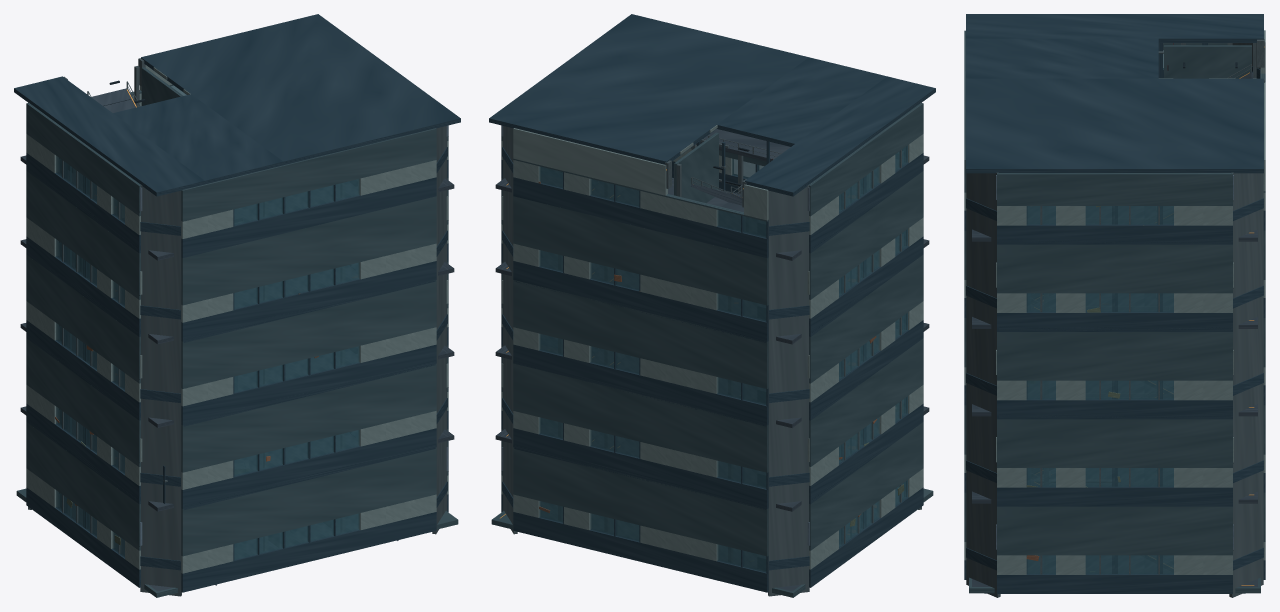
The model's file is Estacion_Abandonada.fbx.
The picture shows the model from 3 angles, left to right: view 1: azimuth 30°, elevation 25°; view 2: azimuth 150°, elevation 25°; view 3: azimuth 270°, elevation 25°; orthographic projection. The views are drawn at different scales.
Parts seen in each view (by area): view 1: Casco exterior.001, Cubierta superior.001, 05 · Observación.001, 02 · Almacén.001, 04 · Laboratorio.001, 03 · Comunicaciones.001, Conexión de entrada.001, 01 · Máquinas.001; view 2: Casco exterior.001, Cubierta superior.001, 05 · Observación.001, Conexión de entrada.001, 04 · Laboratorio.001, 02 · Almacén.001, 03 · Comunicaciones.001, Circulación vertical.001; view 3: Casco exterior.001, Cubierta superior.001, Conexión de entrada.001, 04 · Laboratorio.001, 03 · Comunicaciones.001, 02 · Almacén.001, 01 · Máquinas.001, Circulación vertical.001, 05 · Observación.001.
Part boxes in pixels (bbox=[...]): Casco exterior.001: bbox=[16, 58, 458, 597]; Cubierta superior.001: bbox=[14, 14, 460, 196]; 05 · Observación.001: bbox=[20, 66, 454, 260]; 02 · Almacén.001: bbox=[20, 406, 454, 511]; 04 · Laboratorio.001: bbox=[20, 239, 454, 344]; 03 · Comunicaciones.001: bbox=[20, 323, 454, 427]; Conexión de entrada.001: bbox=[87, 67, 183, 112]; 01 · Máquinas.001: bbox=[60, 494, 356, 591]; Casco exterior.001: bbox=[491, 102, 933, 597]; Cubierta superior.001: bbox=[489, 14, 935, 196]; 05 · Observación.001: bbox=[495, 129, 929, 260]; Conexión de entrada.001: bbox=[674, 132, 765, 233]; 04 · Laboratorio.001: bbox=[495, 144, 929, 344]; 02 · Almacén.001: bbox=[495, 400, 929, 511]; 03 · Comunicaciones.001: bbox=[495, 316, 929, 427]; Circulación vertical.001: bbox=[541, 139, 769, 505]; Casco exterior.001: bbox=[964, 30, 1265, 597]; Cubierta superior.001: bbox=[966, 14, 1263, 173]; Conexión de entrada.001: bbox=[1164, 45, 1253, 78]; 04 · Laboratorio.001: bbox=[972, 206, 1257, 328]; 03 · Comunicaciones.001: bbox=[972, 294, 1257, 416]; 02 · Almacén.001: bbox=[972, 381, 1257, 503]; 01 · Máquinas.001: bbox=[972, 472, 1257, 586]; Circulación vertical.001: bbox=[1028, 206, 1173, 571]; 05 · Observación.001: bbox=[972, 43, 1257, 241].
Bounding box in the file's own units: 120 × 97 × 153.
2 materials, 2 textured.
